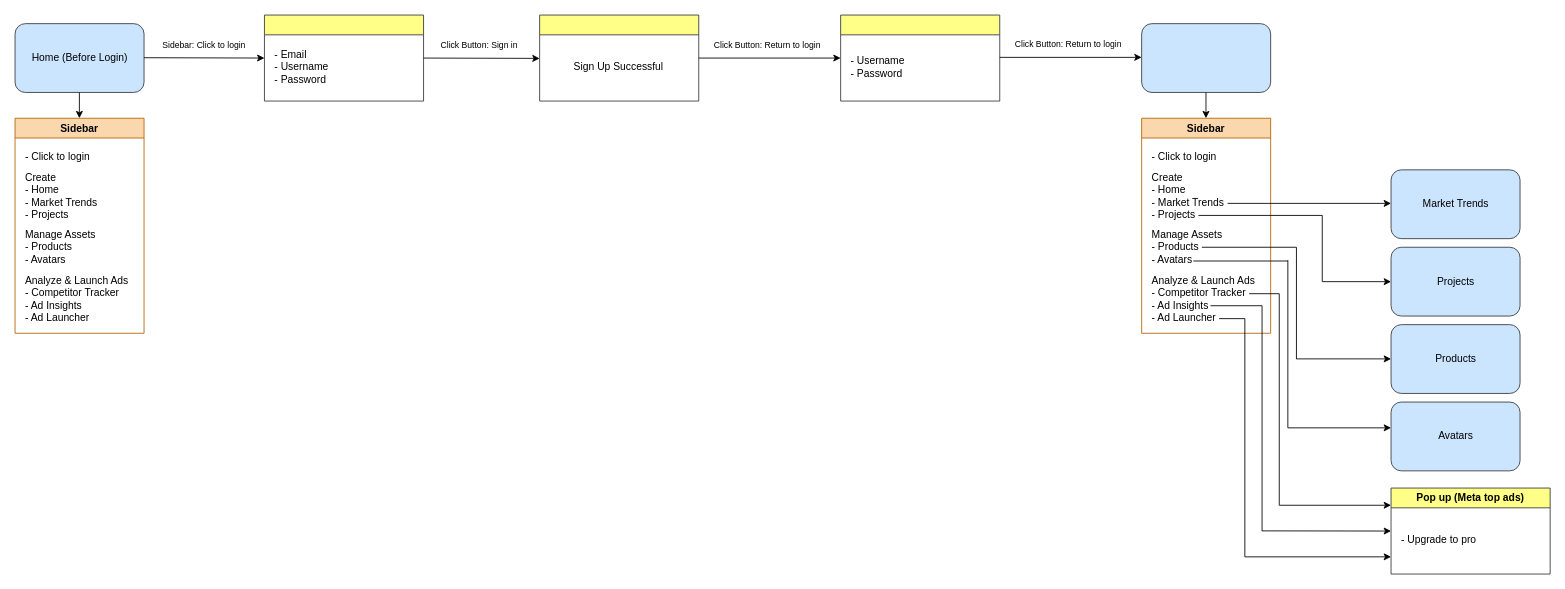
This 1565x589 diagram has some shape labels left out. The shapes that lost their labels are listed below. From the top down, each one's box as (x1, y1, x2, y2) in pixels, then its label:
(264, 14, 424, 101): Pop up (Sign up)
(539, 14, 699, 101): Pop up (Sign up success)
(840, 14, 1000, 101): Pop up (Log in)
(1141, 23, 1271, 92): Home (Login)
